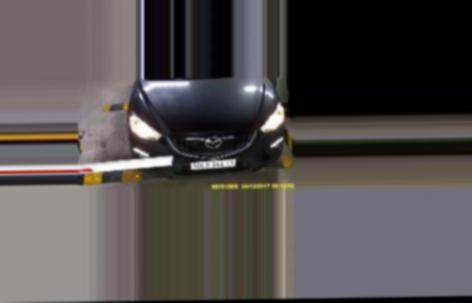License_Plate: (188, 157, 240, 170)
